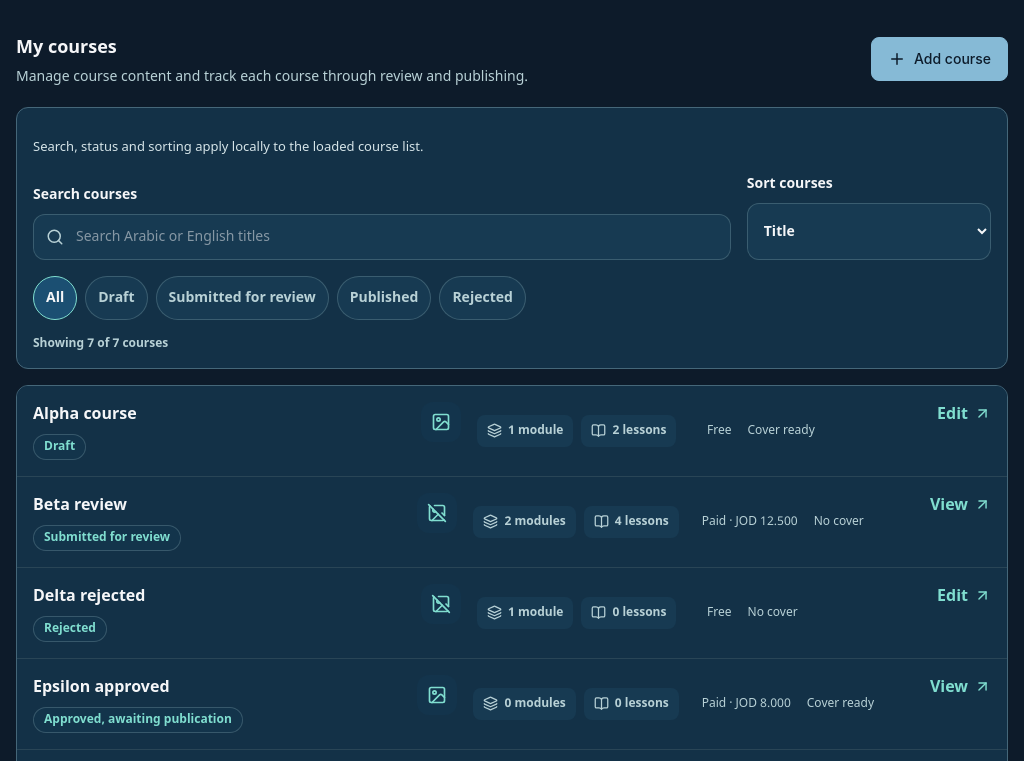
Test: TeacherCoursesManagement › filters Published courses
Expected: the heading "Alpha course" is shown, [33,402,137,426]
Step 1. Click the button "Published" → point(384, 298), box [337,276,431,320]
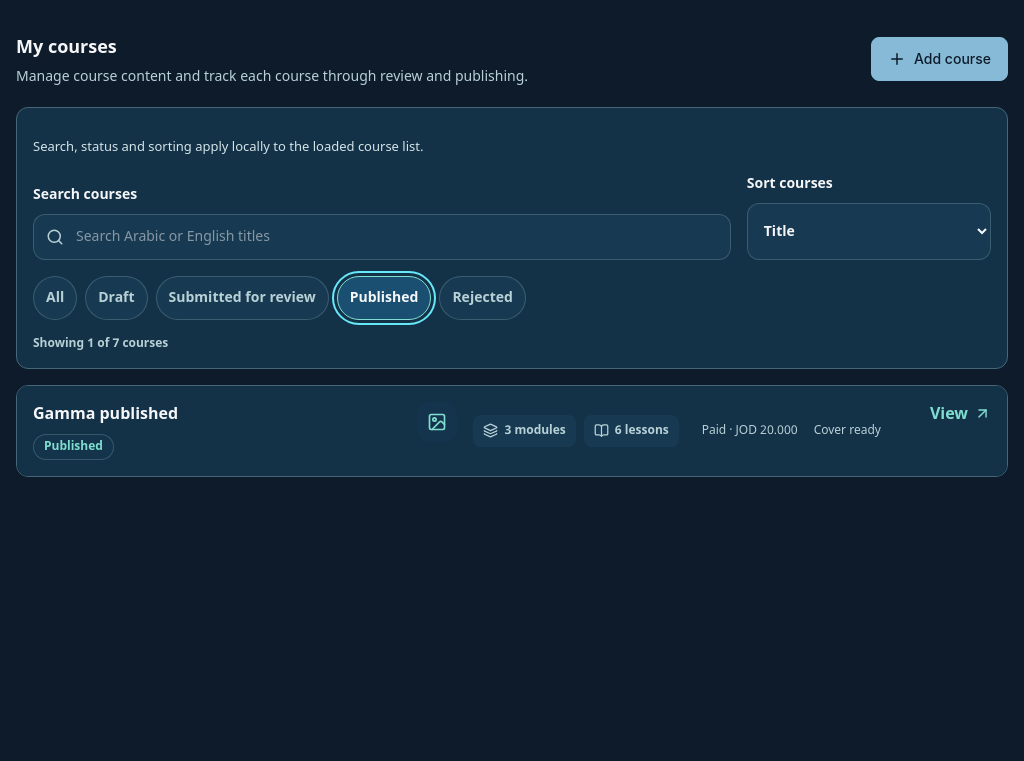
Expected: the heading "Gamma published" is shown, [33,402,178,426]
Result: the link "Alpha course" is gone
